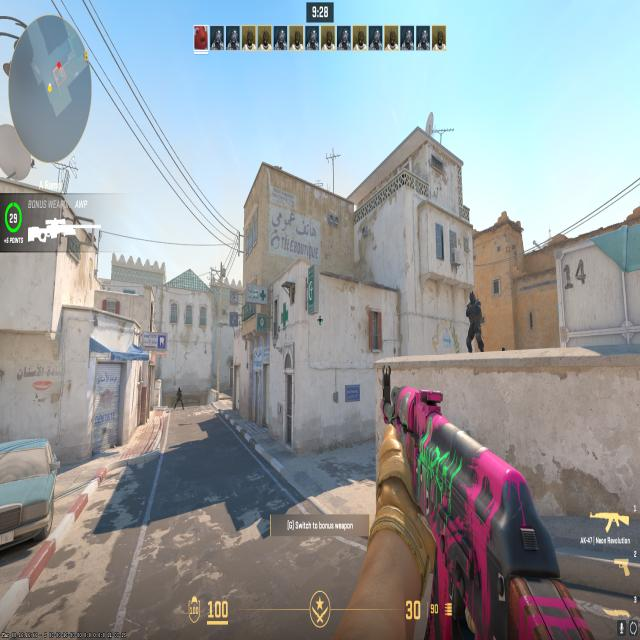ct: (462, 288, 486, 350), (174, 385, 184, 410)
